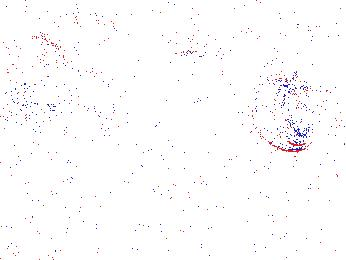moon jellyfish: (130, 50, 211, 126), (1, 35, 76, 106), (251, 73, 317, 153), (40, 70, 131, 115), (168, 51, 229, 88)
